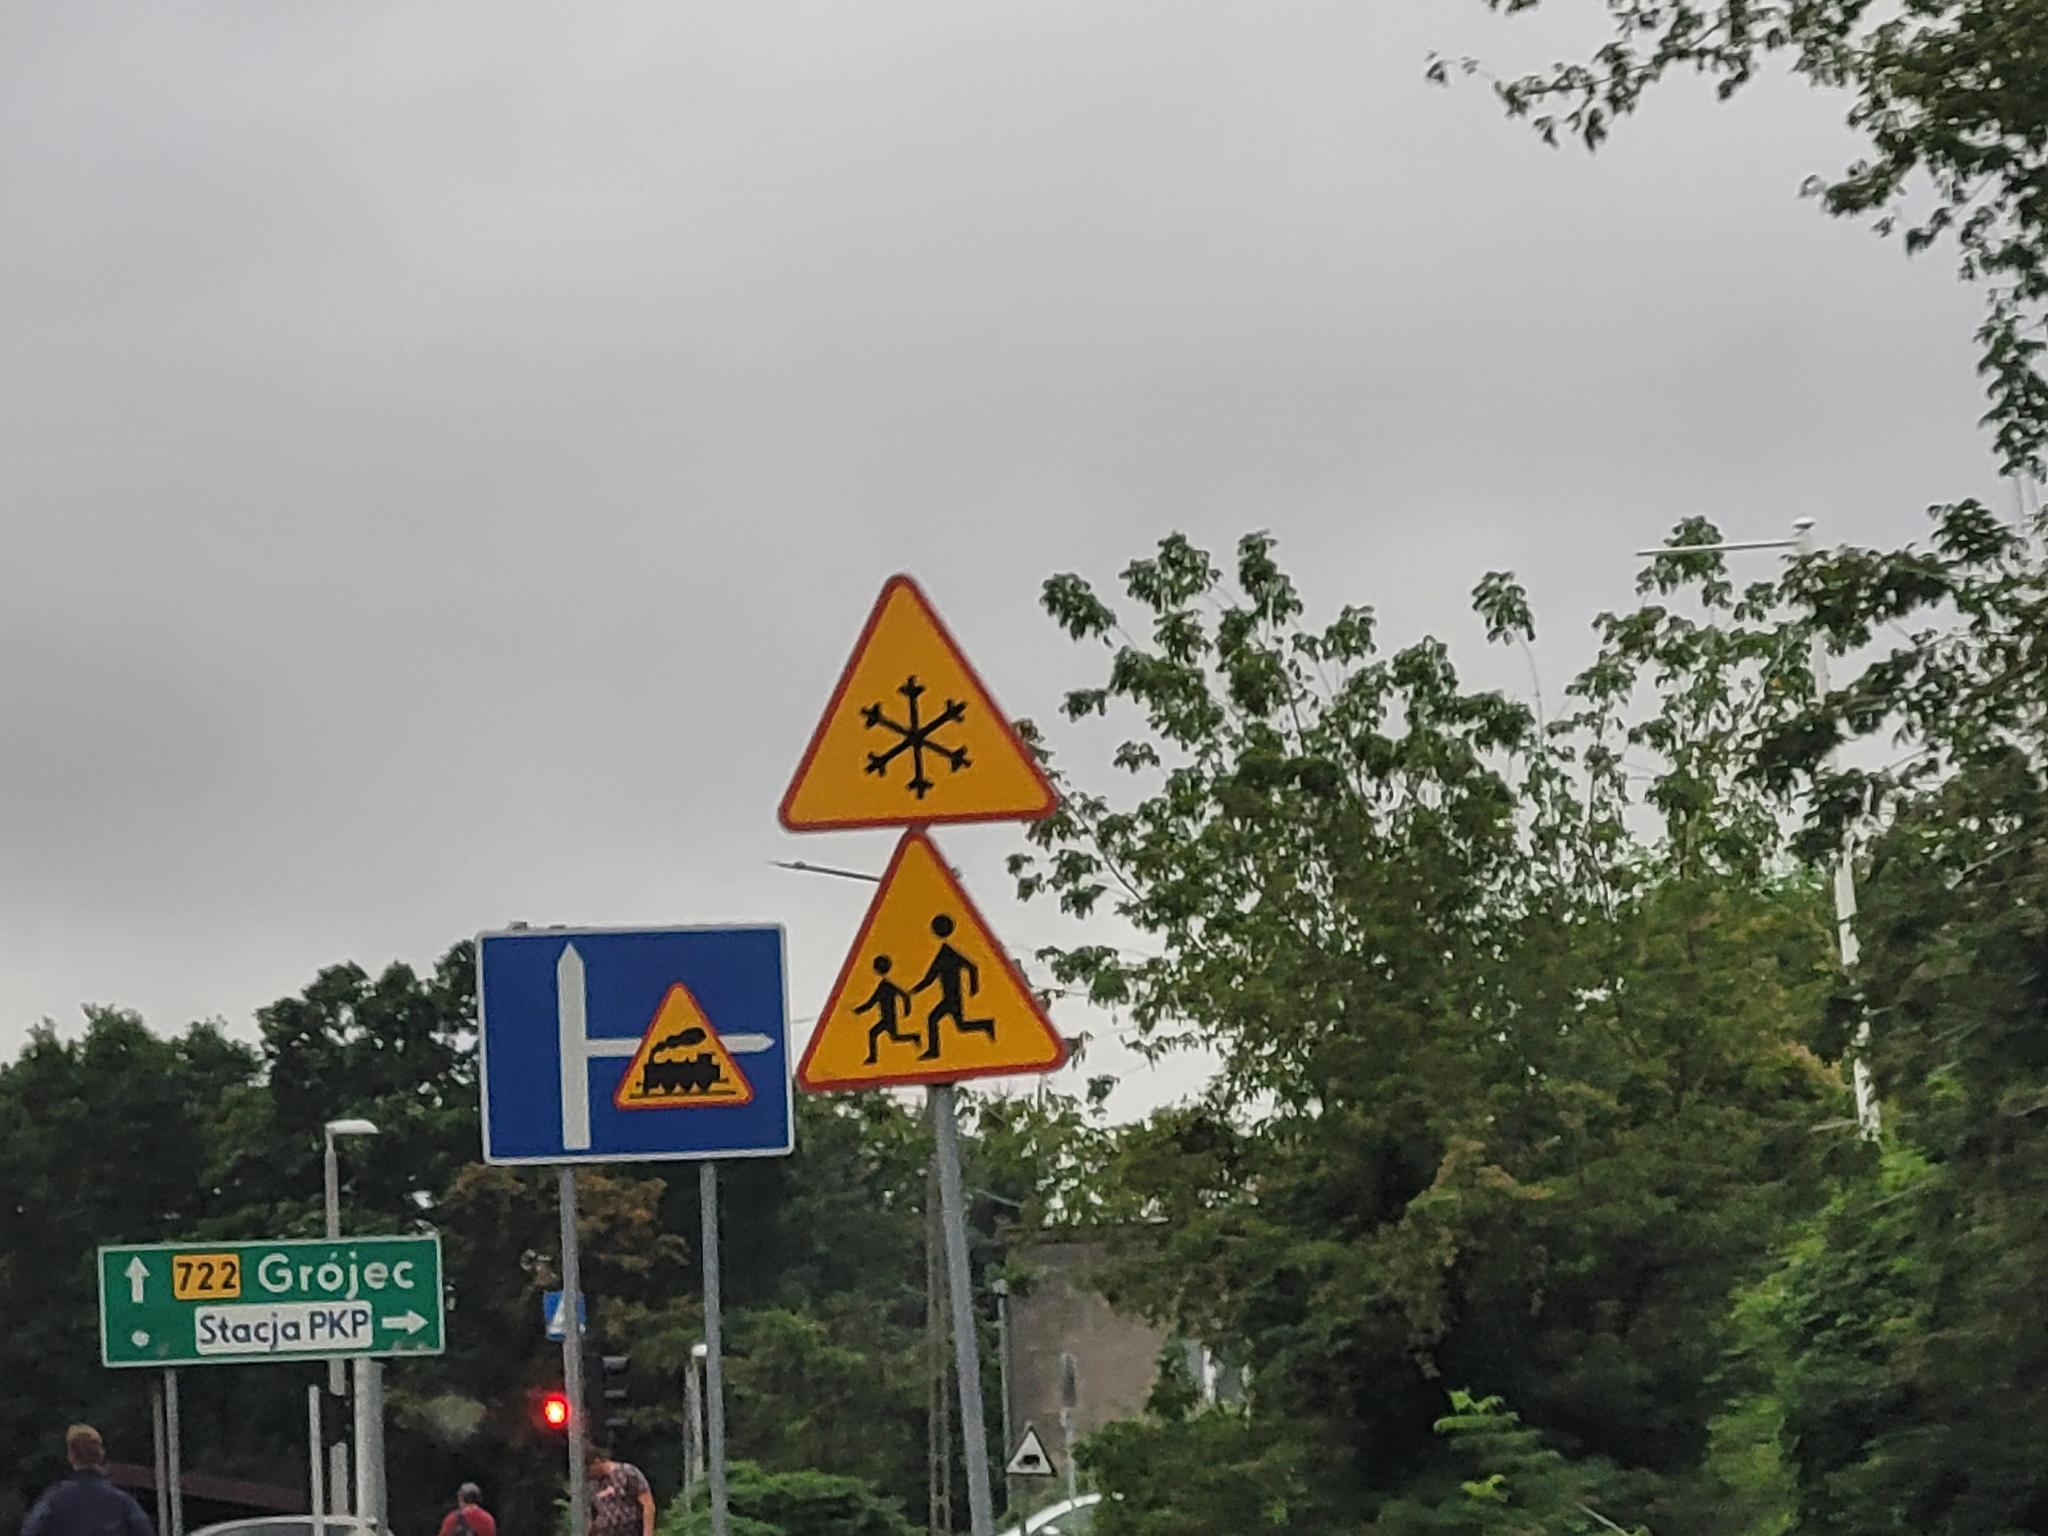direction-city: (97, 1233, 456, 1371)
information: (540, 1289, 592, 1344)
other: (468, 920, 800, 1170), (1001, 1421, 1061, 1481)
warning: (790, 815, 1076, 1099), (769, 566, 1064, 836)
